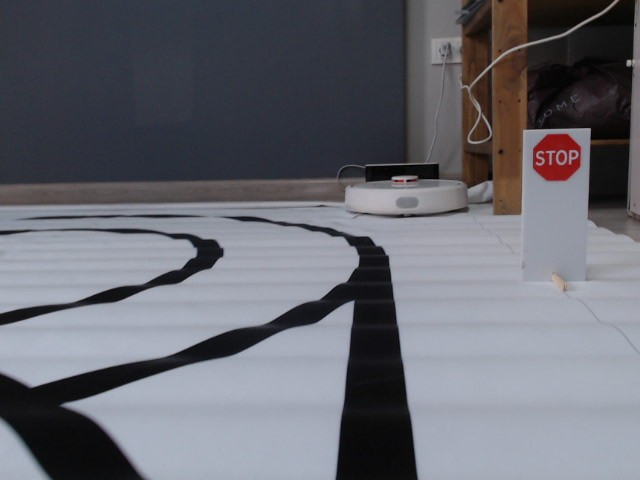Stop: (532, 132, 582, 183)
